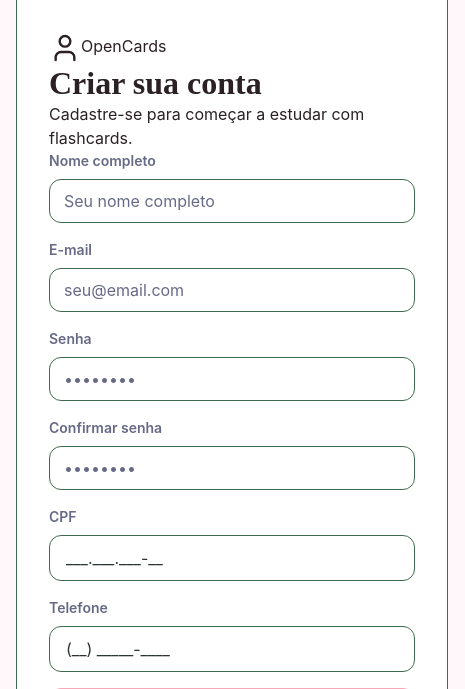
Test case: Cadastro › cadastra o usuário, persiste o perfil no Supabase e avisa ao usuário
Type "Ana Silva" into the field labelled "Nome completo". click: point(232, 201)
box: [49,179,415,223]
Type "ana@exemplo.com" into the field labelled "E-mail". click: point(232, 290)
box: [49,268,415,312]
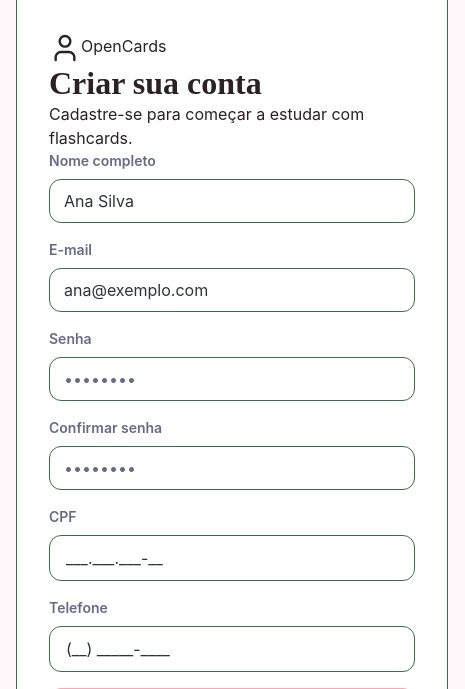
Type "senha1234" into the password field labelled "Senha". click: point(232, 379)
box: [49,357,415,401]
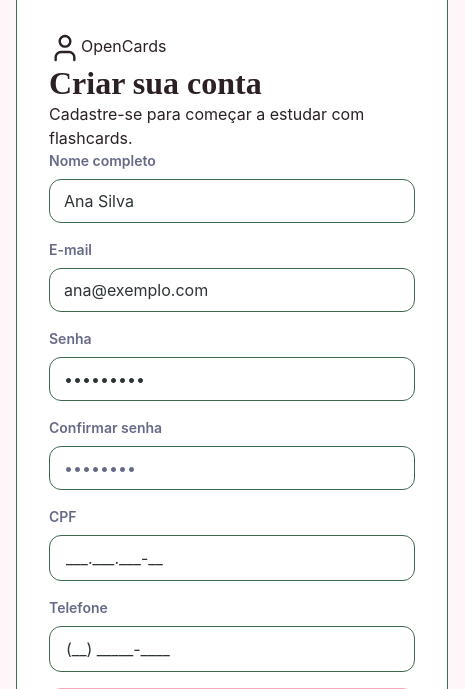
Type "senha1234" into the password field labelled "Confirmar senha". click: point(232, 468)
box: [49,446,415,490]
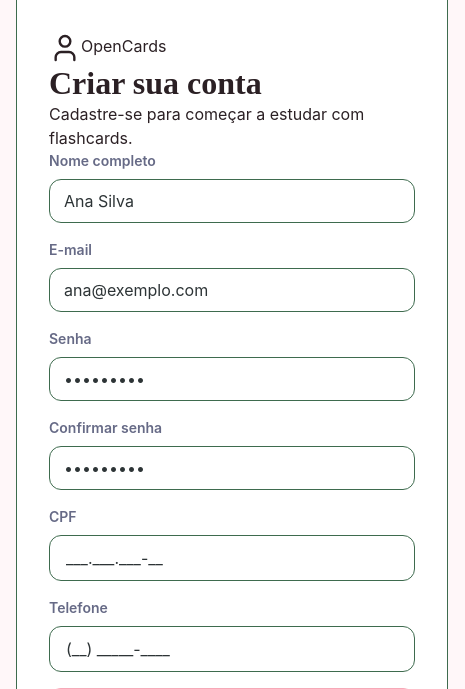
Replace the text in the field labelled "CPF" with "123.456.789-09". click: point(232, 558)
box: [49,535,415,581]
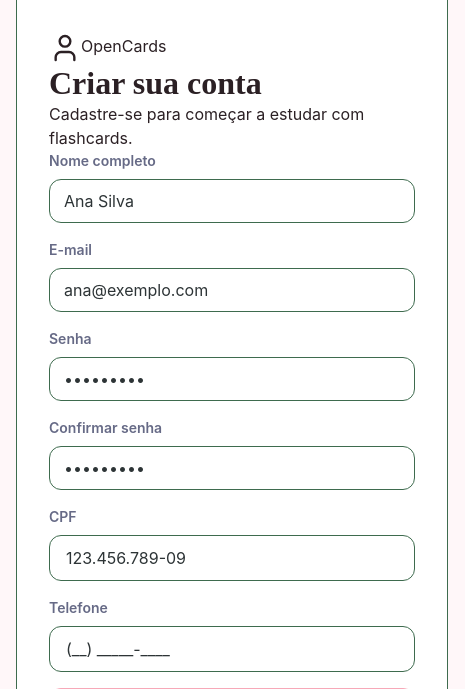
Replace the text in the field labelled "Telefone" with "(11) 99999-9999". click: point(232, 649)
box: [49,626,415,672]
(page scrolled)
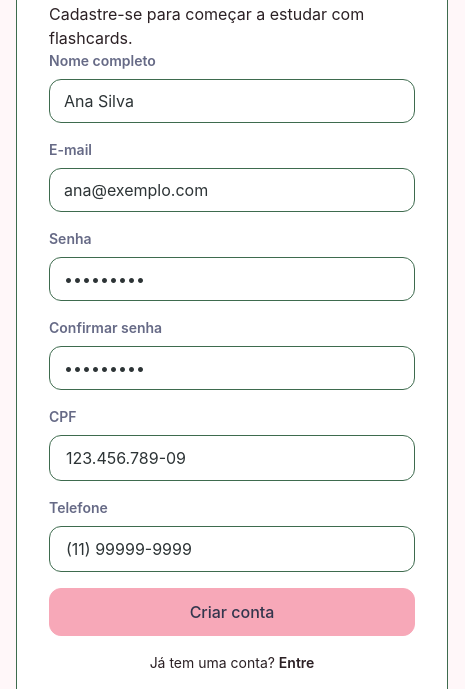
Submit the form "Criar conta"
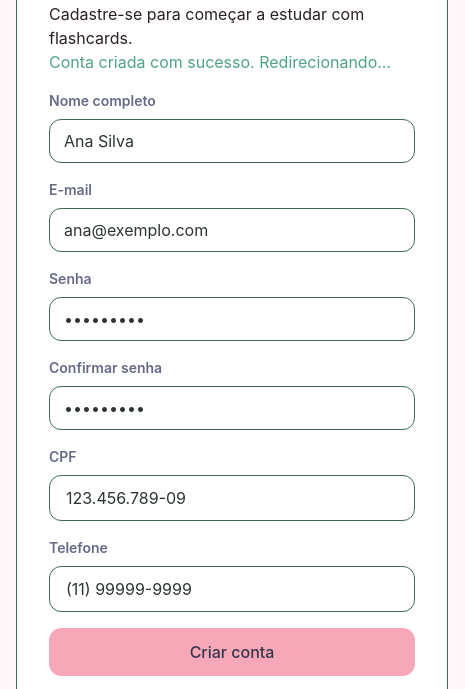
Now the text "Conta criada com sucesso. Redirecionando..." is shown, box [49,50,415,74]
